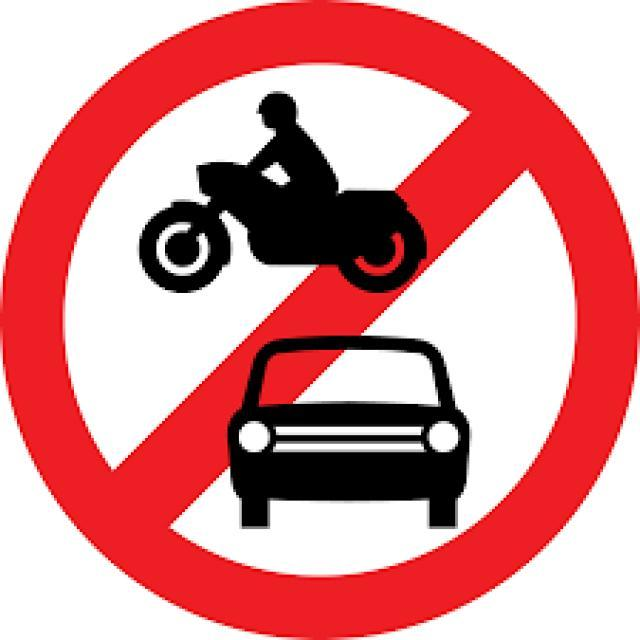all motor vehicle prohibited: (20, 16, 623, 618)
